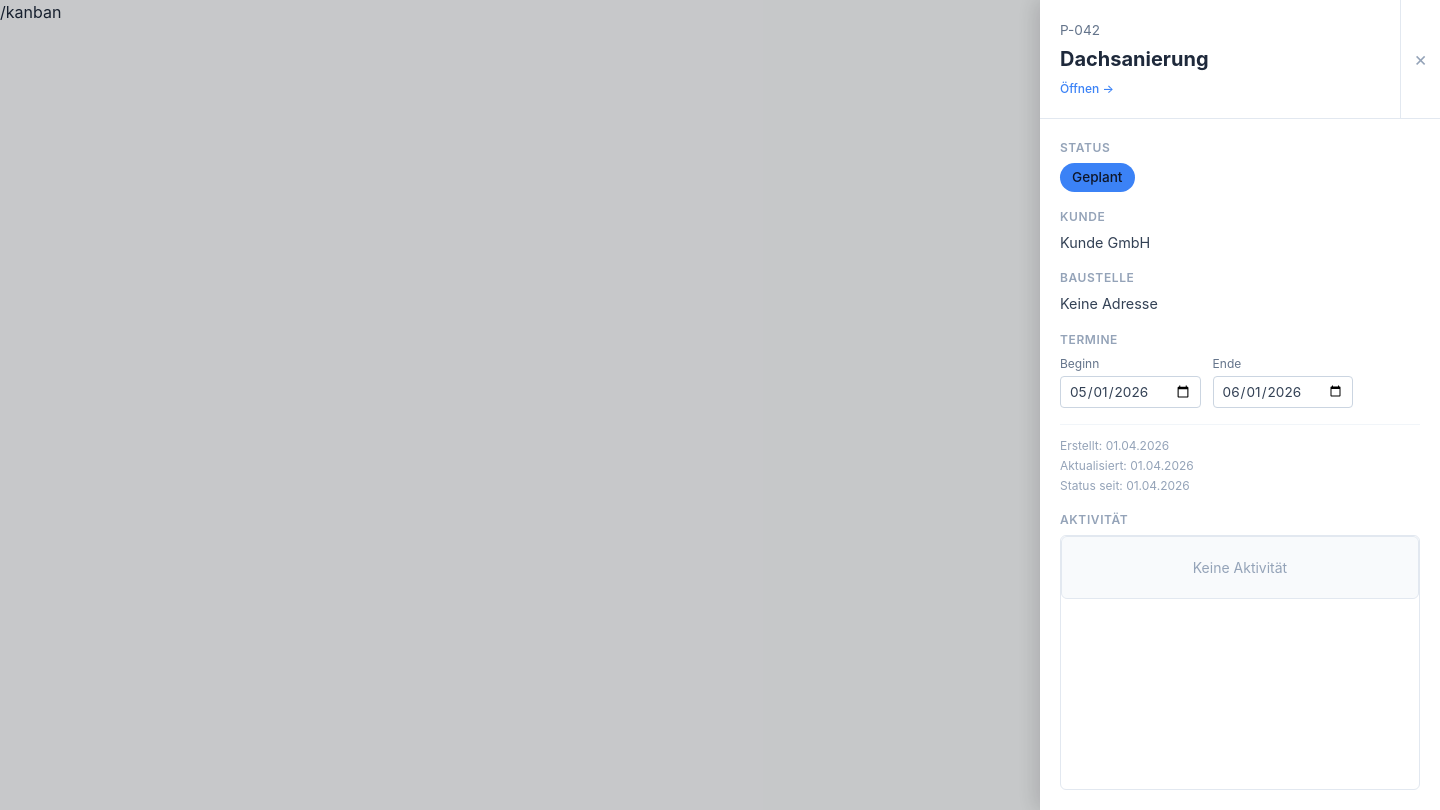
Test: ProjectDetailPanel — Öffnen affordance (AC-207) › navigates to /projects/:id when clicked
This screenshot has width=1440, height=810.
Step 1. Click the button with test id "detail-open-page" → x=1080, y=30, box x1=1040 y1=0 x2=1400 y2=118
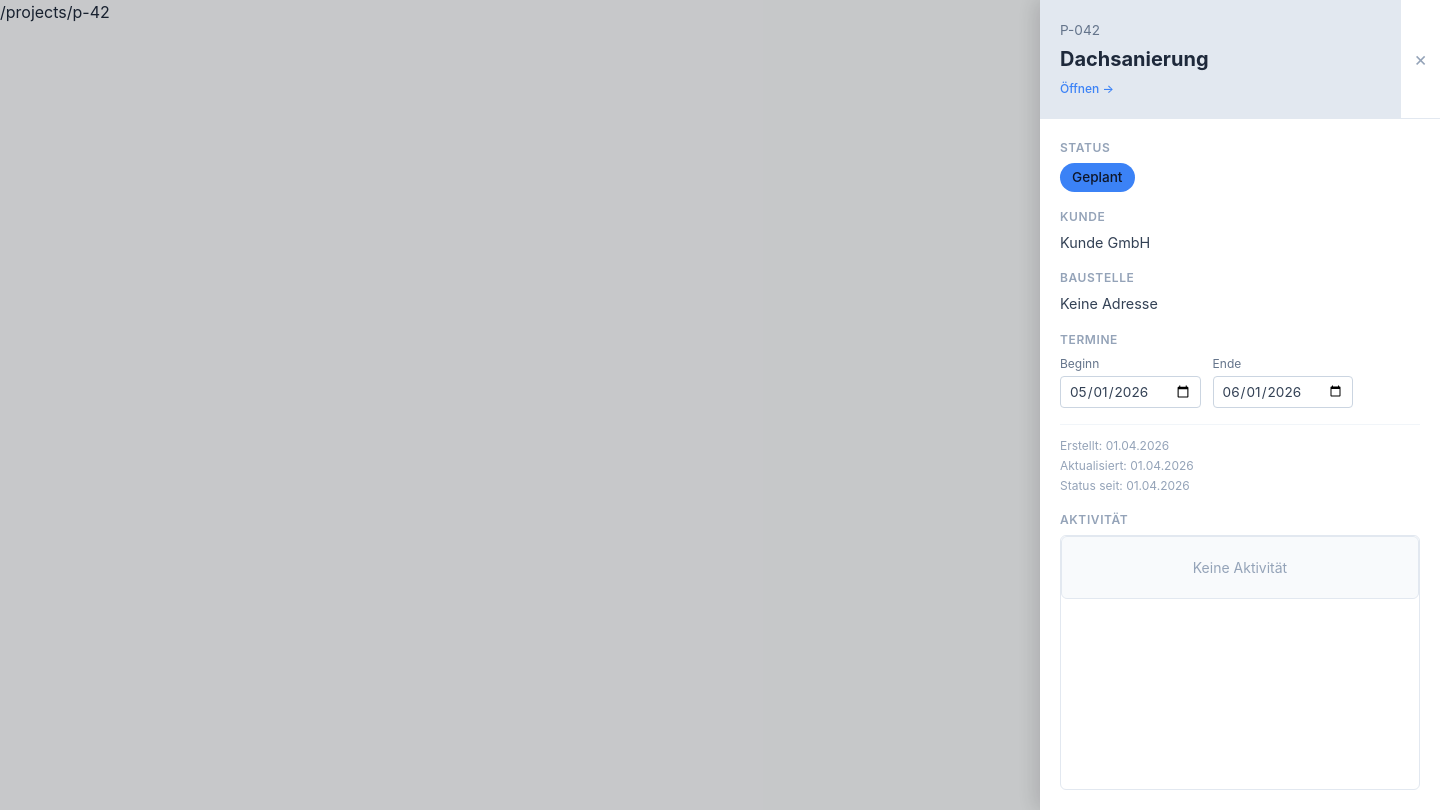
Now the text with test id "location-probe" reads "/projects/p-42", box x1=0 y1=2 x2=110 y2=22
